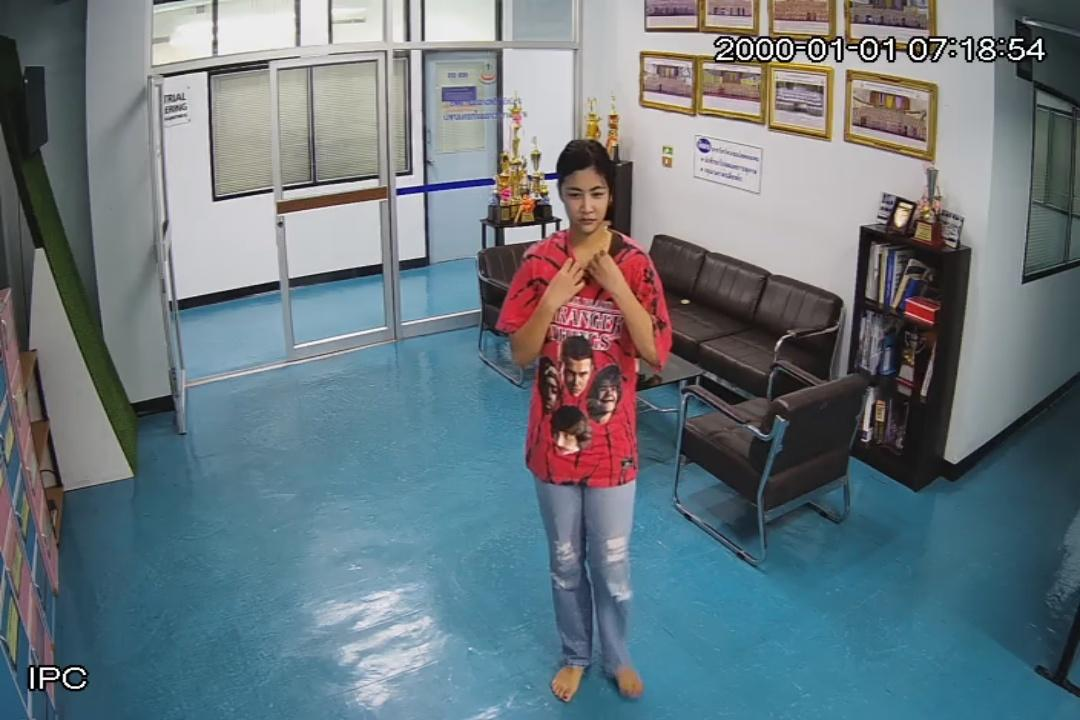normal: (510, 128, 676, 720)
